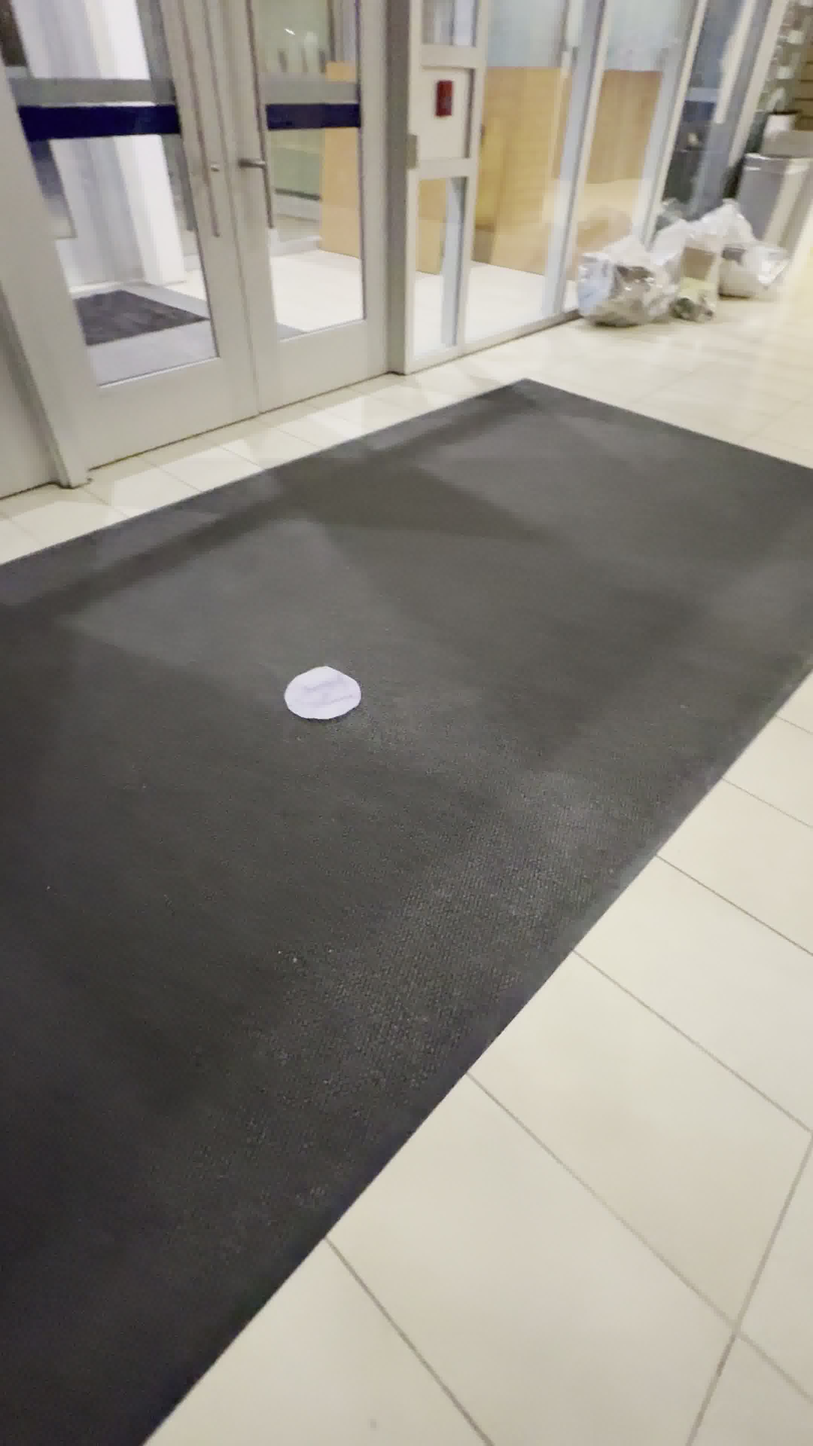Target: (284, 665, 361, 720)
